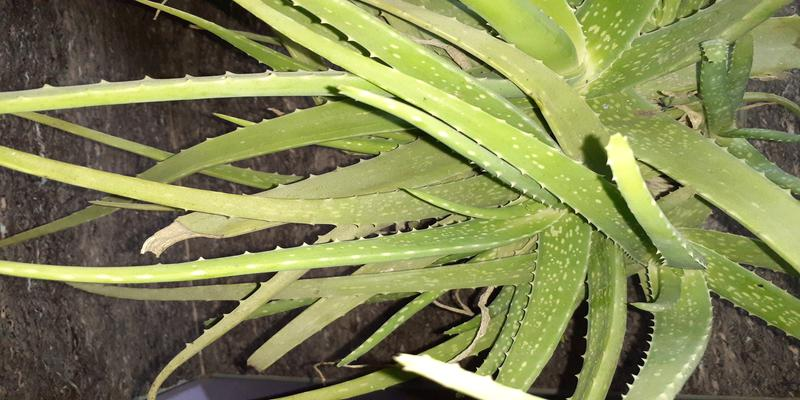Aloevera: (200, 10, 778, 362)
